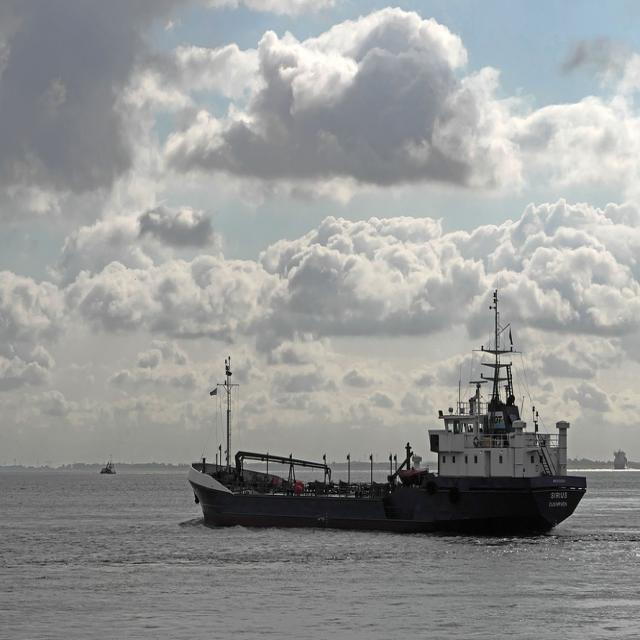fishing boat: (190, 350, 584, 531)
